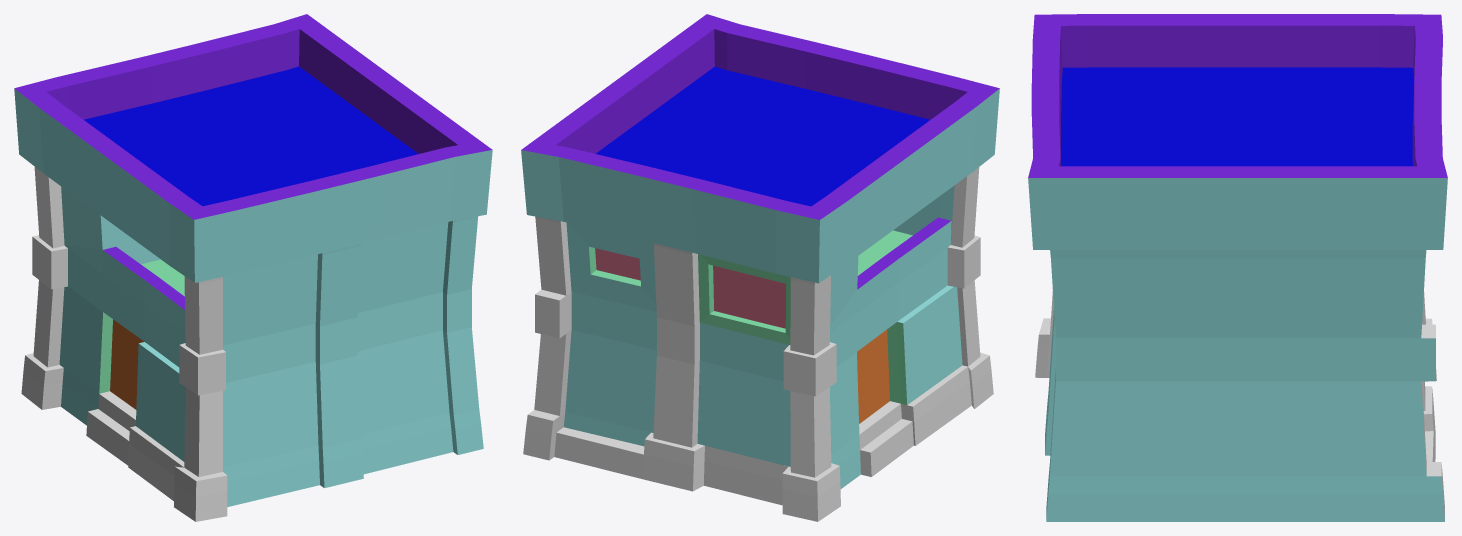
Rendered from RMK Modelo TOON Casinha Laje 2.fbx.
The picture shows the model from 3 angles, left to right: view 1: azimuth 30°, elevation 25°; view 2: azimuth 150°, elevation 25°; view 3: azimuth 270°, elevation 25°; orthographic projection. The views are drawn at different scales.
Visible parts, largest first — view 1: Cube; view 2: Cube; view 3: Cube.
Part boxes in pixels (<box>): Cube: <box>14,14,492,521</box>; Cube: <box>521,14,999,521</box>; Cube: <box>1028,14,1447,521</box>.
Size of the model in its own units: 207 by 202 by 224.
1 material, 1 textured.
